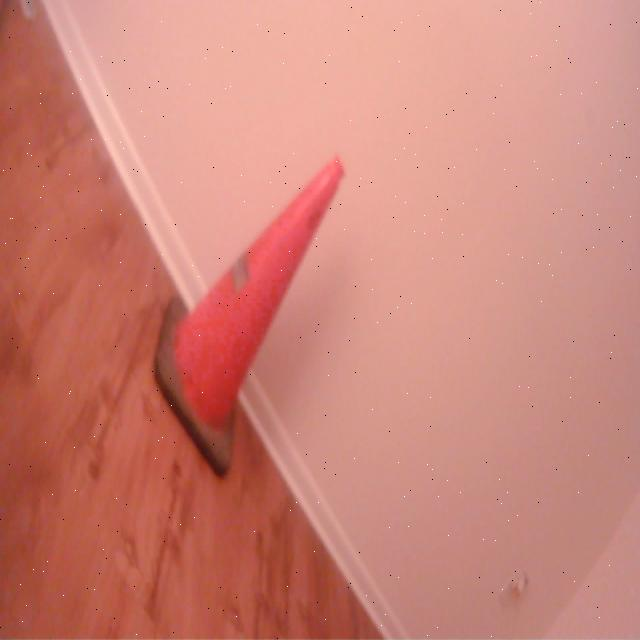traffic cone: (150, 148, 349, 486)
